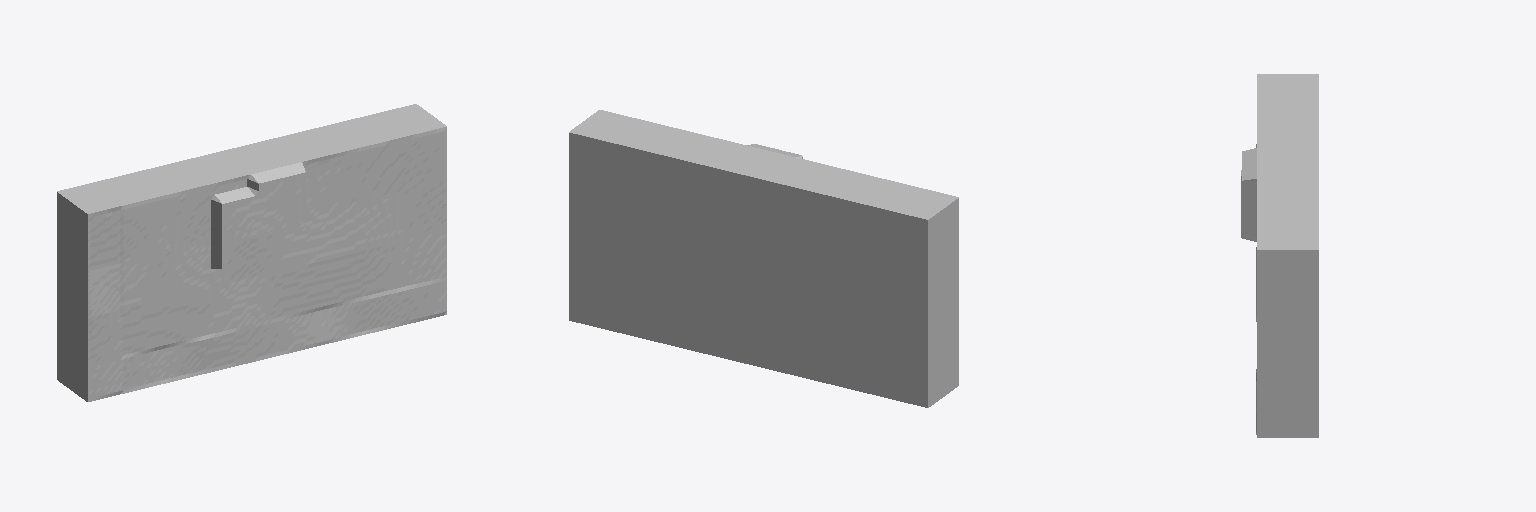
The model's file is rectangular_prism_bumps_7_7.obj.
3 renders of one model, left to right at view 1: azimuth 30°, elevation 25°; view 2: azimuth 150°, elevation 25°; view 3: azimuth 270°, elevation 25°, orthographic.
Size of the model in its own units: 10 by 5 by 1.89.